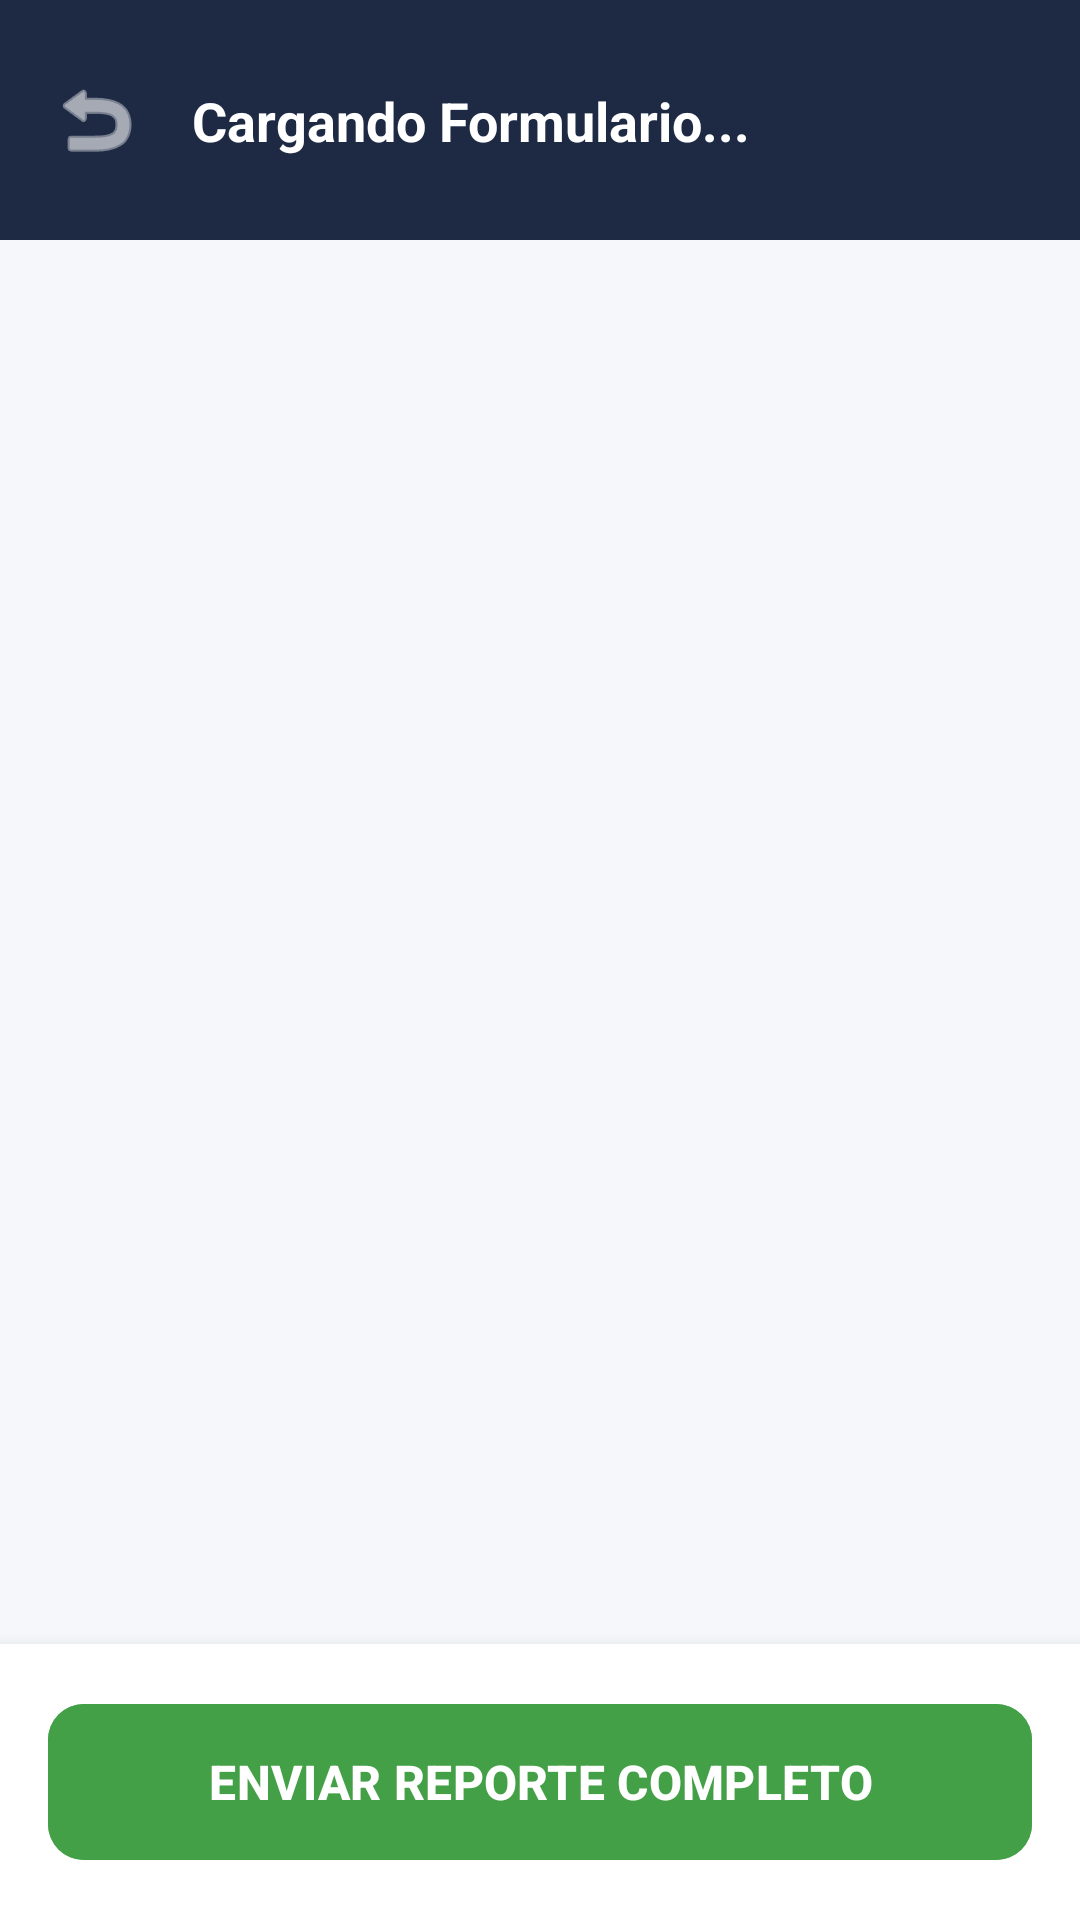

Named icons in this screenshot (1080 × 1920) and their centers, (x,y):
revert: (97,120)
